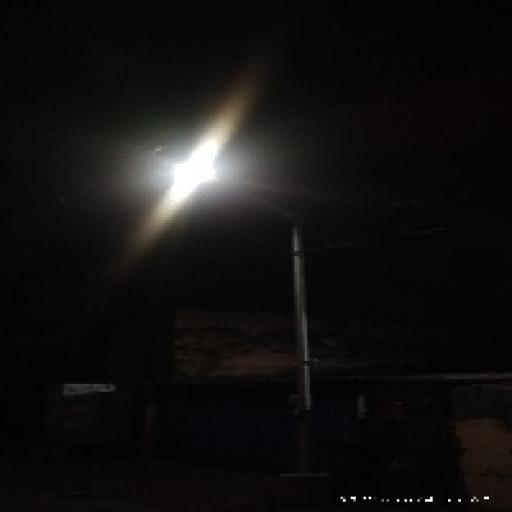Working: (162, 160, 225, 191)
